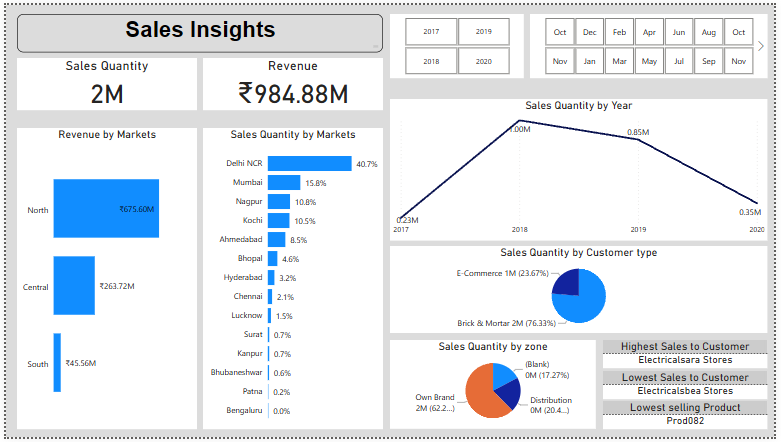

The page's visual inventory and layout, read from the dashboard file:
{"tool":"powerbi","page":{"name":"Sales Insights","canvas":[1280,720],"ordinal":0},"visuals":[{"type":"card","title":"Revenue","fields":{"Values":["Base Measure.Revenue"]},"box":[327.5,88.4,300,87],"z":0},{"type":"card","title":"Sales Quantity","fields":{"Values":["Base Measure.Sales_Quantity"]},"box":[18.8,88.4,300,87],"z":1000},{"type":"clusteredBarChart","title":"Revenue by Markets","fields":{"Category":["sales markets.zone Hierarchy.zone","sales markets.zone Hierarchy.markets_name"],"Y":["Base Measure.Revenue"]},"box":[18.7,205.5,300.4,501.6],"z":2000},{"type":"clusteredBarChart","title":"Sales Quantity by Markets","fields":{"Category":["sales markets.markets_name"],"Y":["Base Measure.sales %"]},"box":[329.1,205.5,300.4,501.6],"z":3000},{"type":"slicer","fields":{"Values":["sales date.year"]},"box":[640.6,14.5,223.2,107.2],"z":4000},{"type":"slicer","fields":{"Values":["sales date.cy_date"]},"box":[873.9,14.5,395.7,107.2],"z":5000},{"type":"textbox","title":"Sales Insights","box":[18.8,14.5,610.1,63.8],"z":6000},{"type":"lineChart","title":"Sales Quantity by Year","fields":{"Y":["Base Measure.Sales_Quantity"],"Category":["sales date.date.Variation.Date Hierarchy.Year","sales date.date.Variation.Date Hierarchy.Quarter","sales date.date.Variation.Date Hierarchy.Month","sales date.date.Variation.Date Hierarchy.Day"]},"box":[639.5,156.6,629.5,235.7],"z":7000},{"type":"pieChart","title":"Sales Quantity by zone","fields":{"Y":["Base Measure.Sales_Quantity"],"Series":["sales products.product_type"]},"box":[639.5,559,343.5,148],"z":8000},{"type":"card","title":"Lowest selling Product","fields":{"Values":["Min(sales products.product_code)"]},"box":[994.5,659.6,274.5,47.4],"z":9000},{"type":"pieChart","title":"Sales Quantity by Customer type","fields":{"Y":["Base Measure.Sales_Quantity"],"Series":["sales customers.customer_type"]},"box":[639.5,402.4,629.5,145.1],"z":10000},{"type":"card","title":"Highest Sales to Customer","fields":{"Values":["Min(sales customers.custmer_name)"]},"box":[994.5,559,274.5,47.4],"z":11000},{"type":"card","title":"Lowest Sales to Customer","fields":{"Values":["Min(sales customers.custmer_name)"]},"box":[994.5,609.3,274.5,47.4],"z":12000}]}

Visuals, with their boxes in screenshot pixels (x1, y1, x2, y2), scaled from the page's 1280x720 canvas onto the 781x442 screenshot:
"Revenue" card: bbox(200, 54, 383, 108)
"Sales Quantity" card: bbox(11, 54, 195, 108)
"Revenue by Markets" clusteredBarChart: bbox(11, 126, 195, 434)
"Sales Quantity by Markets" clusteredBarChart: bbox(201, 126, 384, 434)
slicer - sales date.year: bbox(391, 9, 527, 75)
slicer - sales date.cy_date: bbox(533, 9, 775, 75)
"Sales Insights" textbox: bbox(11, 9, 384, 48)
"Sales Quantity by Year" lineChart: bbox(390, 96, 774, 241)
"Sales Quantity by zone" pieChart: bbox(390, 343, 600, 434)
"Lowest selling Product" card: bbox(607, 405, 774, 434)
"Sales Quantity by Customer type" pieChart: bbox(390, 247, 774, 336)
"Highest Sales to Customer" card: bbox(607, 343, 774, 372)
"Lowest Sales to Customer" card: bbox(607, 374, 774, 403)
